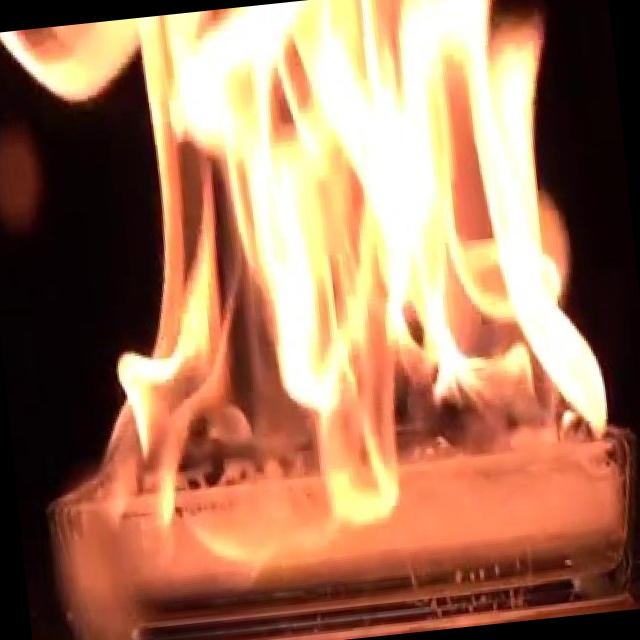Fire: (0, 0, 625, 559)
